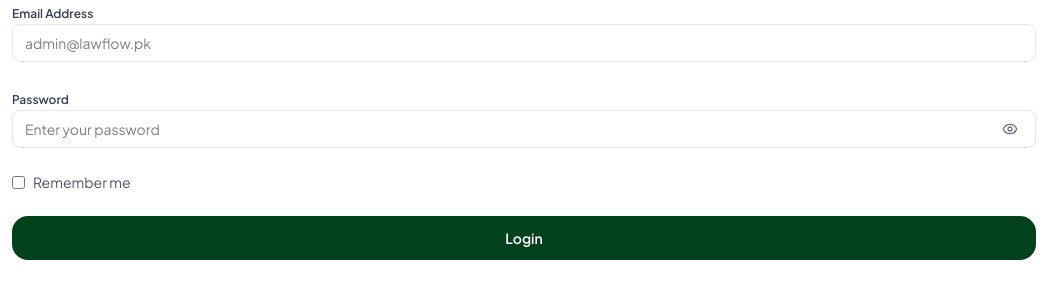
Test: AdminLoginForm › requires an email before it will submit
The image size is (1048, 297).
Type "Admin@123" into the password field labelled "Password" at (524, 129), box [12, 110, 1036, 148]
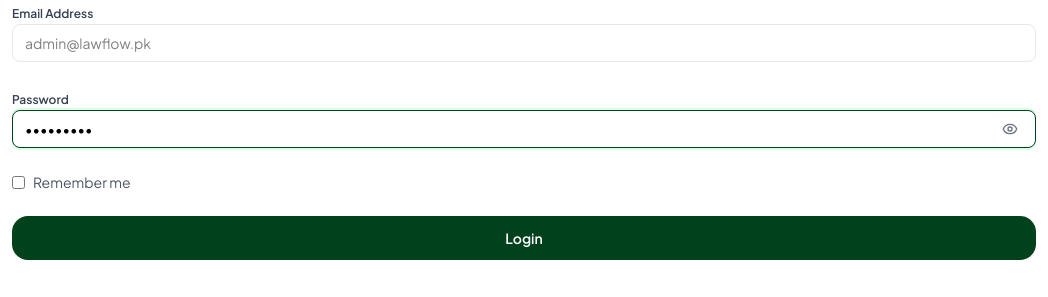
Click the button "Login" at (524, 238), box [12, 216, 1036, 260]
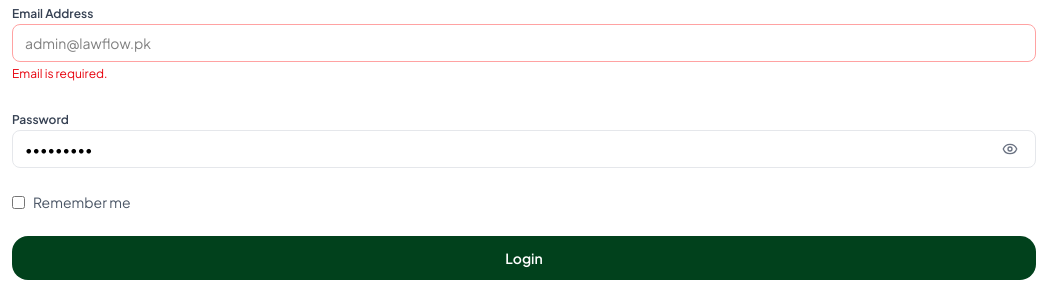
Expected: the text "Email is required." is shown, [12, 66, 108, 81]
